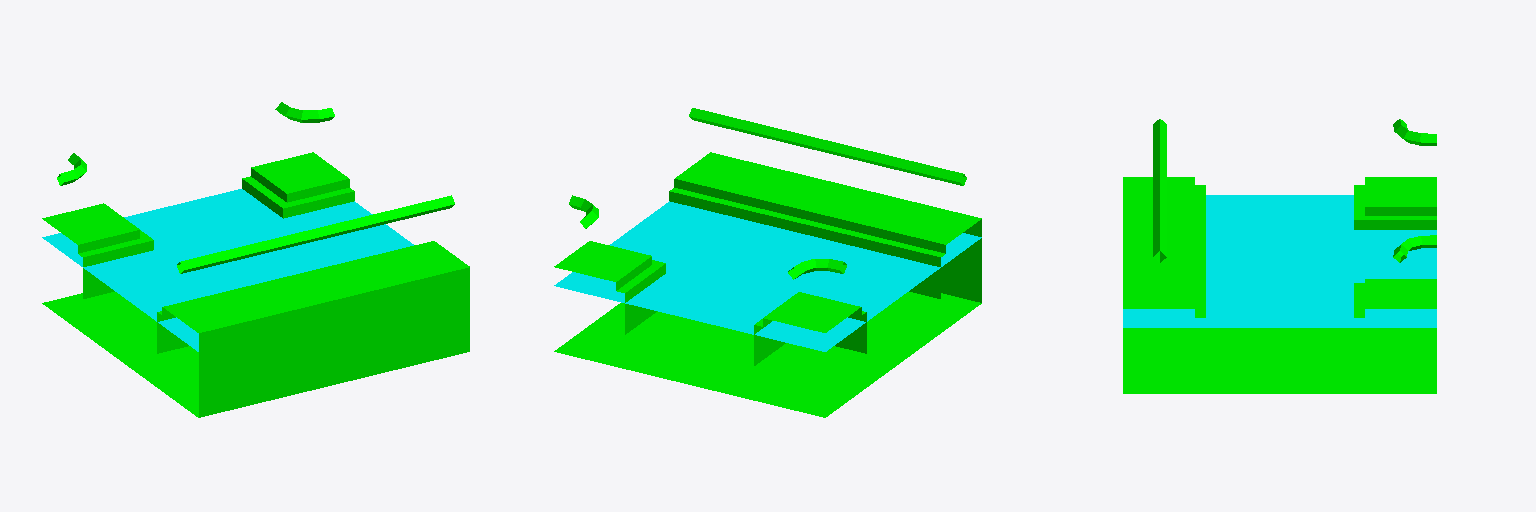
The model's file is TPiece.obj.
The picture shows the model from 3 angles: view 1: azimuth 30°, elevation 25°; view 2: azimuth 150°, elevation 25°; view 3: azimuth 270°, elevation 25°; orthographic projection.
Parts seen in each view (by area): view 1: TPiece_geo; view 2: TPiece_geo; view 3: TPiece_geo.
Part boxes in pixels (x1,y1,x2,y2): TPiece_geo: (42,102,469,417); TPiece_geo: (554,108,981,417); TPiece_geo: (1123,119,1436,393).
Bounding box in the file's own units: 171 × 85.93 × 171.